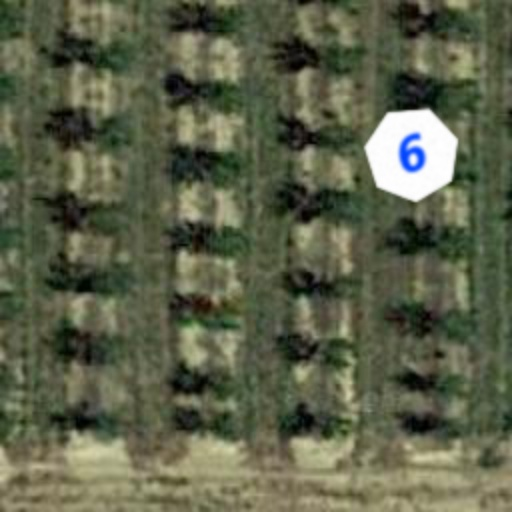heptagon: (350, 92, 474, 216)
